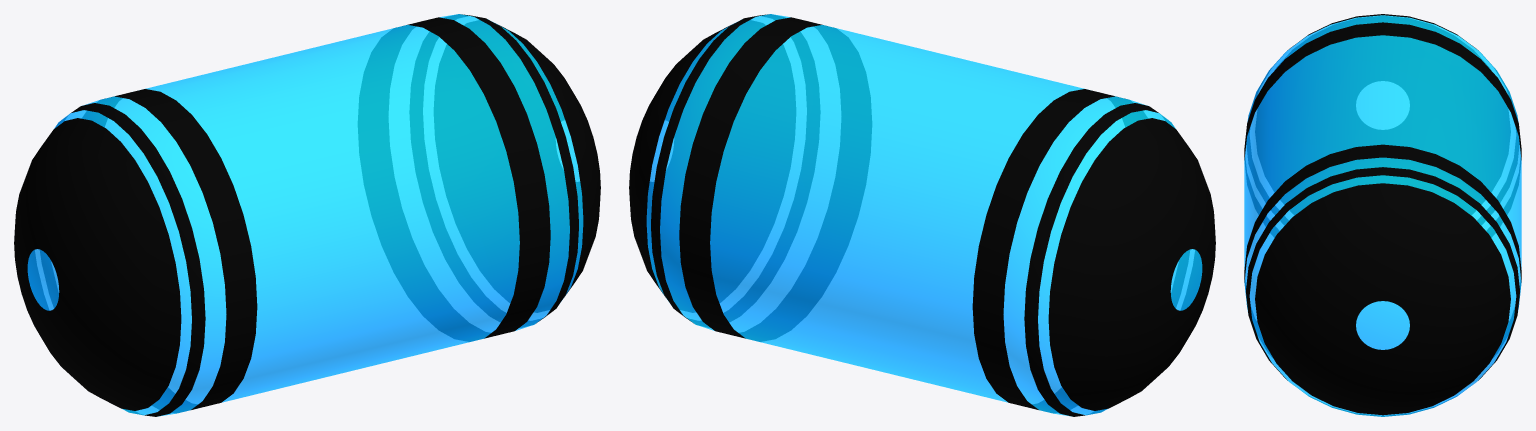
Rendered from Energy Tank.glb.
The picture shows the model from 3 angles, left to right: view 1: azimuth 30°, elevation 25°; view 2: azimuth 150°, elevation 25°; view 3: azimuth 270°, elevation 25°; orthographic projection. The views are drawn at different scales.
Parts seen in each view (by area): view 1: Sphere; view 2: Sphere; view 3: Sphere.
Part boxes in pixels (left/top/right/bottom): Sphere: left=14, top=14, right=600, bottom=416; Sphere: left=629, top=14, right=1215, bottom=416; Sphere: left=1244, top=14, right=1521, bottom=416.
Bounding box in the file's own units: 3.79 × 2 × 2.
